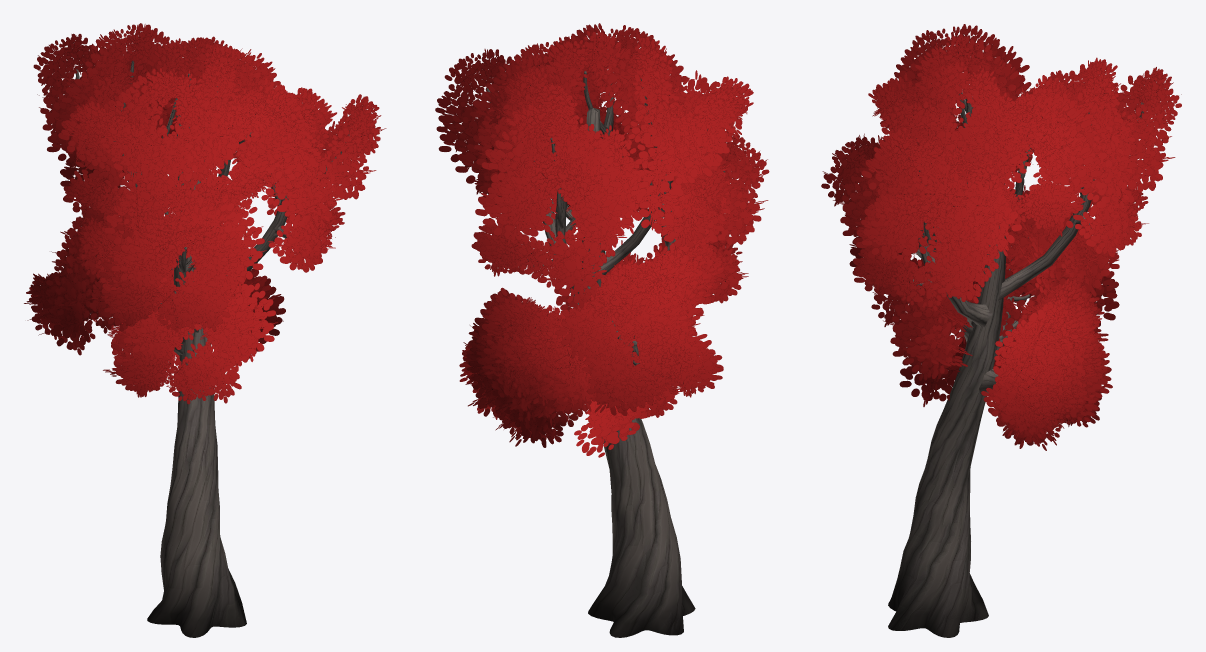
File: nature-twistedtree-5.glb
3 renders of one model, left to right at view 1: azimuth 30°, elevation 25°; view 2: azimuth 150°, elevation 25°; view 3: azimuth 270°, elevation 25°, orthographic. The views are drawn at different scales.
Parts seen in each view (by area): view 1: TwistedTree_5; view 2: TwistedTree_5; view 3: TwistedTree_5.
Boxes of the visible parts, x1,y1,x2,y2 form: TwistedTree_5: (24, 23, 386, 637); TwistedTree_5: (435, 23, 769, 637); TwistedTree_5: (821, 24, 1181, 637).
Bounding box in the file's own units: 9.49 × 15.66 × 9.39.
Materials: 2 (2 with a texture image).
